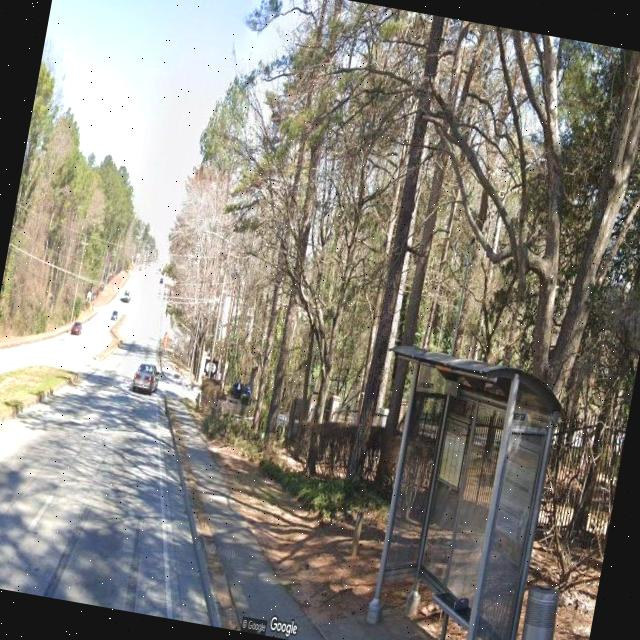seating: (421, 586, 493, 640)
shelter: (343, 342, 569, 640)
trash_can: (513, 582, 562, 640)
